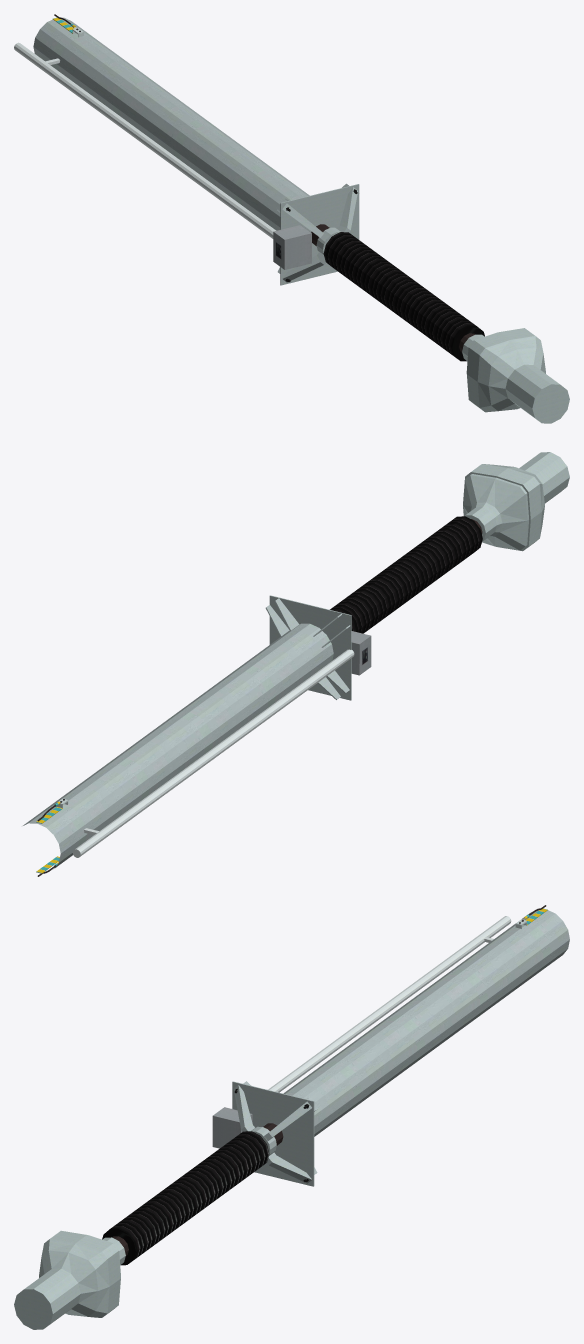
Rendered from ct-11m00000002857865-geode.glb.
3 renders of one model, top to bottom at view 1: azimuth 30°, elevation 25°; view 2: azimuth 150°, elevation 25°; view 3: azimuth 330°, elevation 25°, orthographic. The views are drawn at different scales.
Visible parts, largest first — view 1: Node; view 2: Node; view 3: Node.
Boxes of the visible parts, box(x1,y1,x2,y2) form: Node: box(14, 14, 569, 423); Node: box(23, 452, 569, 876); Node: box(14, 905, 569, 1329).
Size of the model in its own units: 0.7725 by 0.699 by 7.64.
11 materials, 11 textured.
